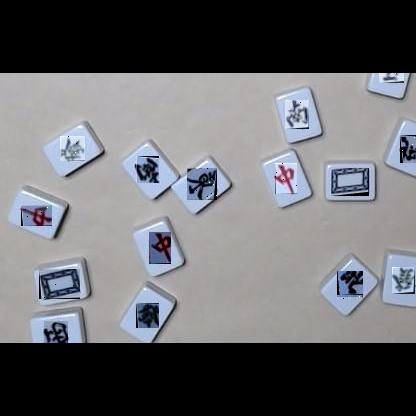1z: (187, 168, 217, 200)
2z: (285, 100, 309, 129), (136, 156, 159, 183)
3z: (43, 321, 68, 343), (379, 73, 404, 83)
4z: (337, 272, 363, 300), (400, 135, 416, 163)
5z: (39, 269, 80, 299), (331, 168, 369, 196)
6z: (60, 136, 85, 161), (392, 267, 415, 294), (136, 303, 159, 328)
7z: (149, 232, 171, 264), (275, 163, 297, 194), (21, 205, 52, 226)
